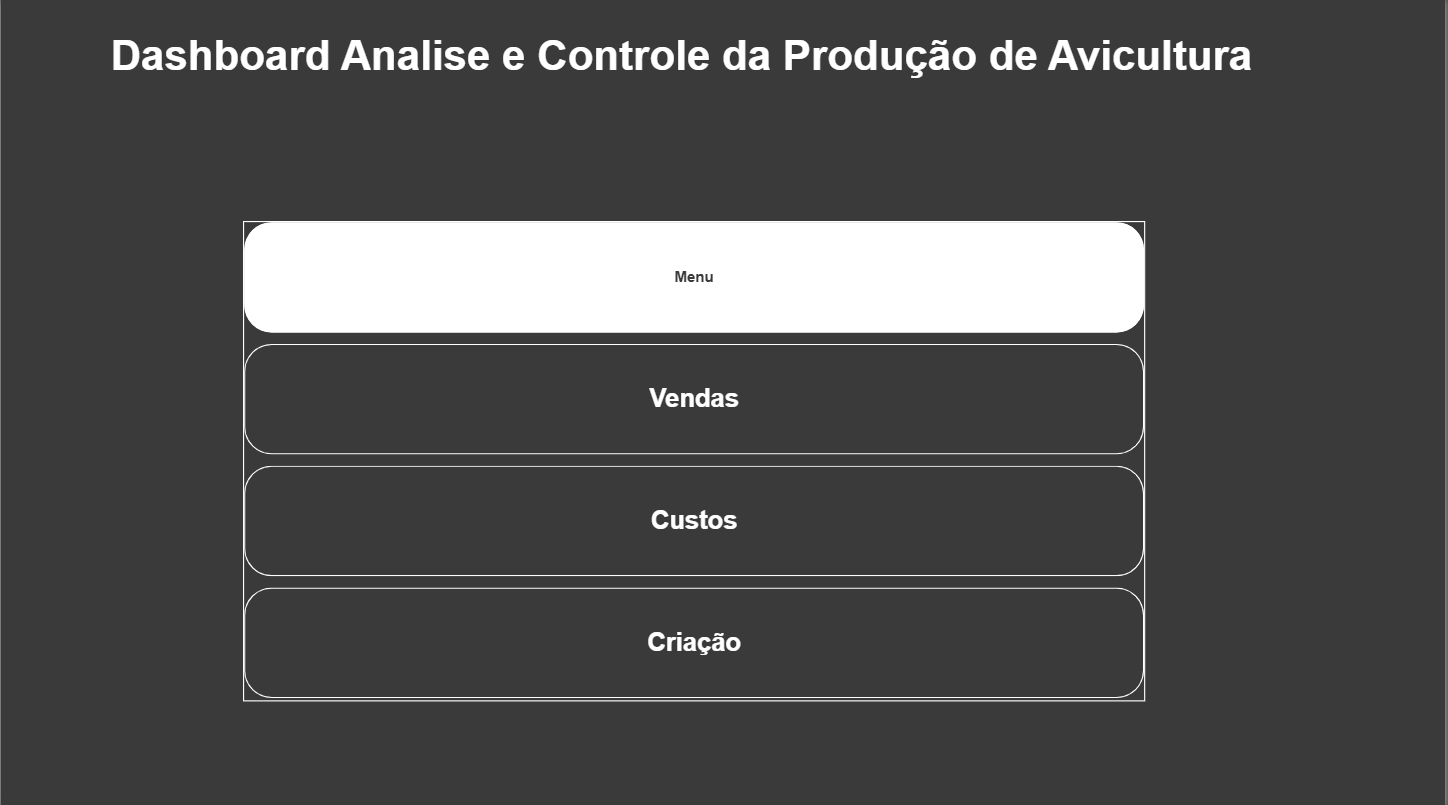

This screenshot's page, from the dashboard's own definition file:
{"tool":"powerbi","page":{"name":"Menu","canvas":[1280,720],"ordinal":0},"visuals":[{"type":"pageNavigator","box":[215,198.4,800.5,426],"z":4},{"type":"textbox","box":[92.4,25.3,1046.6,54.5],"z":5}]}

Visuals, with their boxes in screenshot pixels (x1, y1, x2, y2), scaled from the page's 1280x720 canvas onto the 1448x805 screenshot:
pageNavigator: {"x1": 243, "y1": 222, "x2": 1149, "y2": 698}
textbox: {"x1": 105, "y1": 28, "x2": 1288, "y2": 89}
